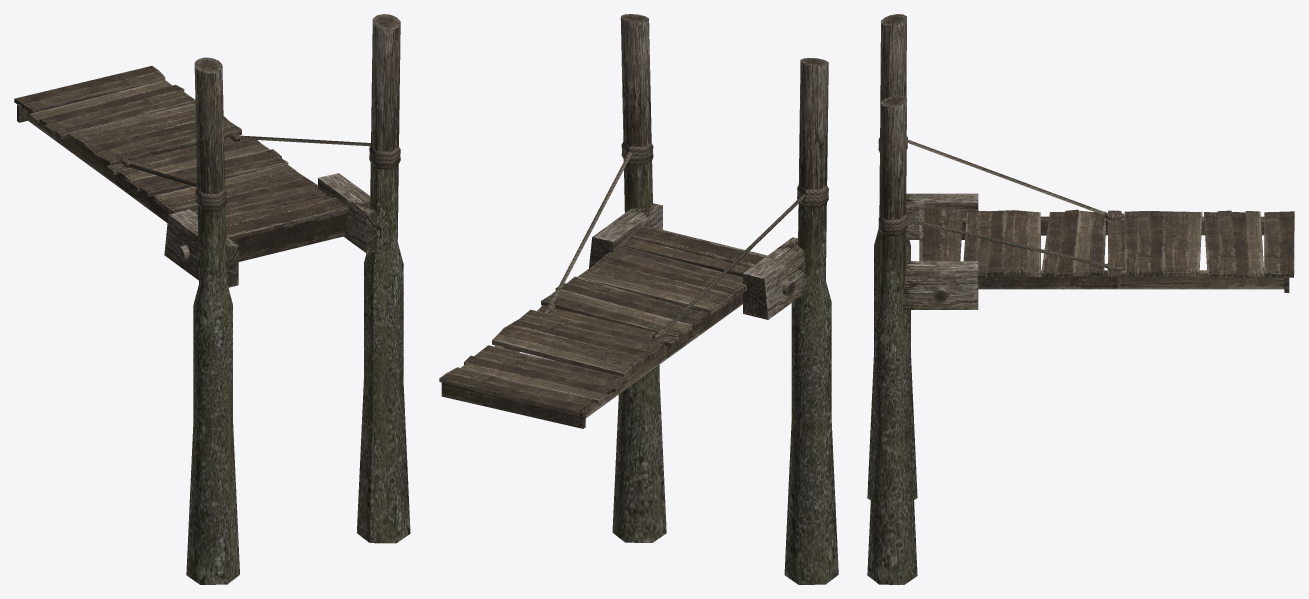
File: eso_gu3_wooddocks7-transformed.glb
3 renders of one model, left to right at view 1: azimuth 30°, elevation 25°; view 2: azimuth 150°, elevation 25°; view 3: azimuth 270°, elevation 25°, orthographic. The views are drawn at different scales.
Parts seen in each view (by area): view 1: default; view 2: default; view 3: default.
Boxes of the visible parts, x1,y1,x2,y2 form: default: (14,14,410,584); default: (439,14,838,584); default: (867,14,1294,584).
Size of the model in its own units: 9.25 by 21.41 by 17.33.
Materials: 1 (1 with a texture image).
